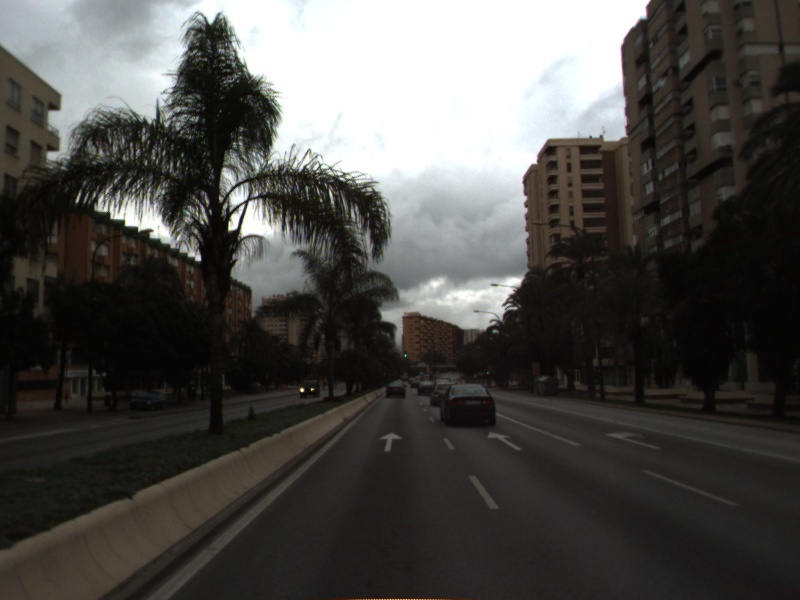RIGHT: (602, 427, 664, 451)
STRAIGHT: (485, 428, 525, 452), (377, 430, 405, 453)
